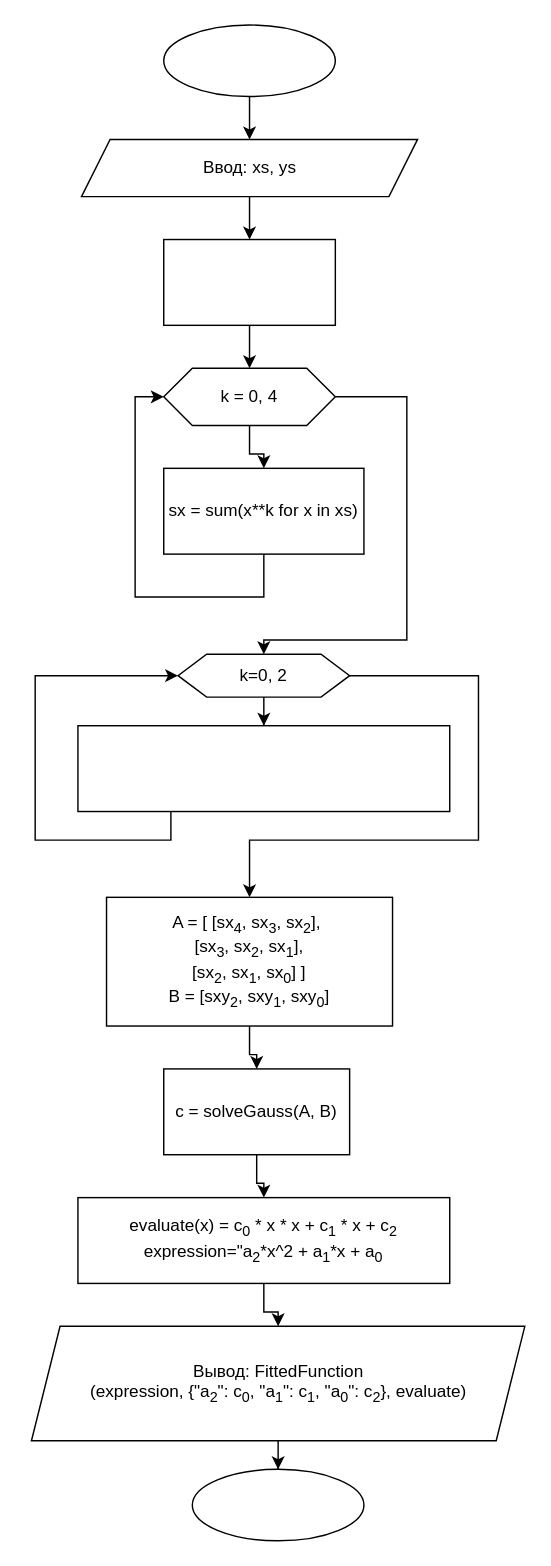
This 551x1566 diagram has some shape labels left out. Each missing label, with the box of its shape:
sx = [0.0] * 5 sxy = [0.0] * 3: (162, 238, 335, 325)
sxy[k] = sum(y * (x ** k) for x, y in zip(xs, ys)): (77, 724, 450, 812)
Конец: (191, 1468, 364, 1541)
Начало: (162, 24, 335, 97)
